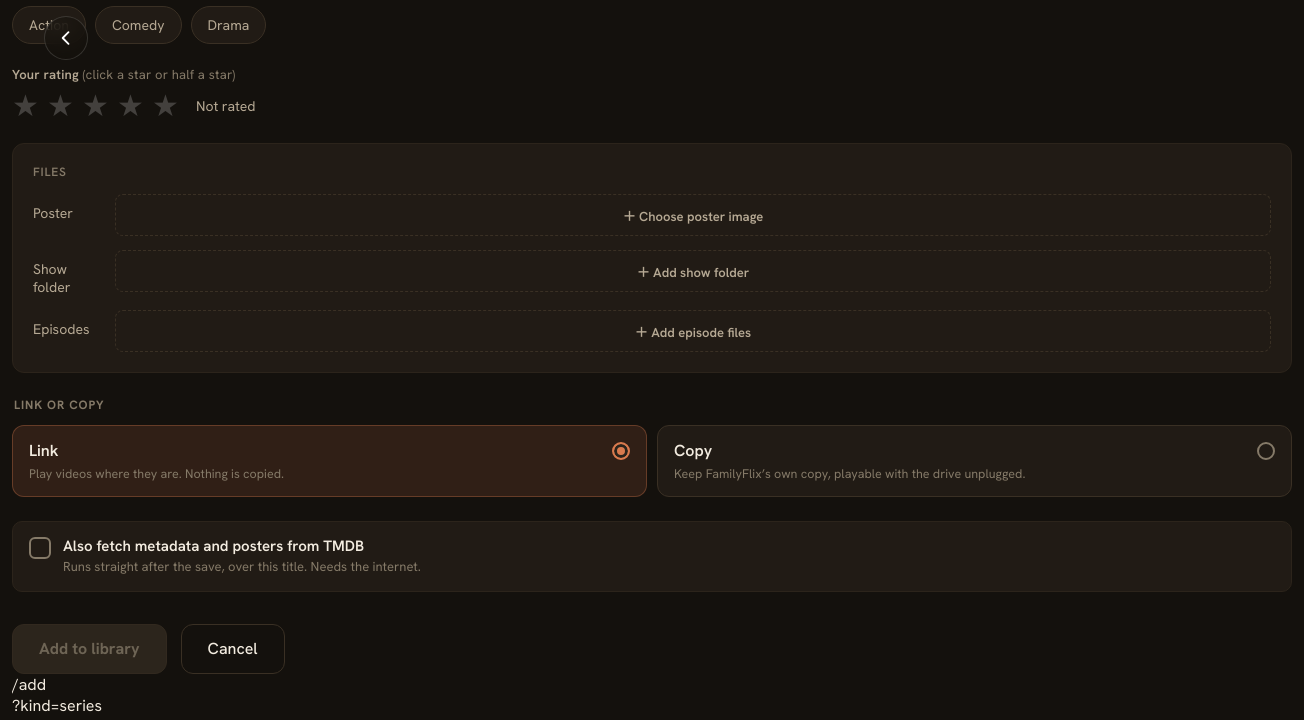
Test case: MovieForm — the Show folder pick’s edges › a held folder › adds no rows and no Show folder row
(page scrolled)
Click the button "＋ Add show folder".
click(693, 271)  # box [115,250,1271,292]
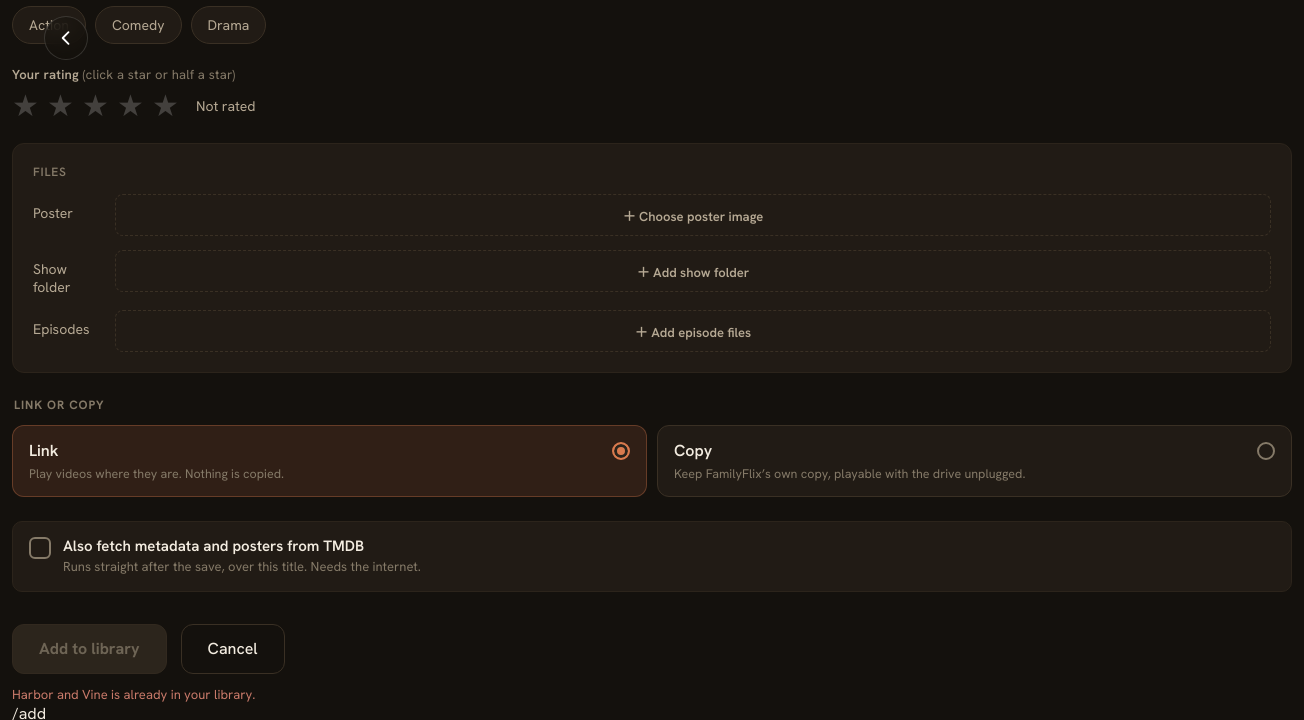
Expected: the text "Harbor and Vine is already in your library." is shown, [12,686,255,703]
